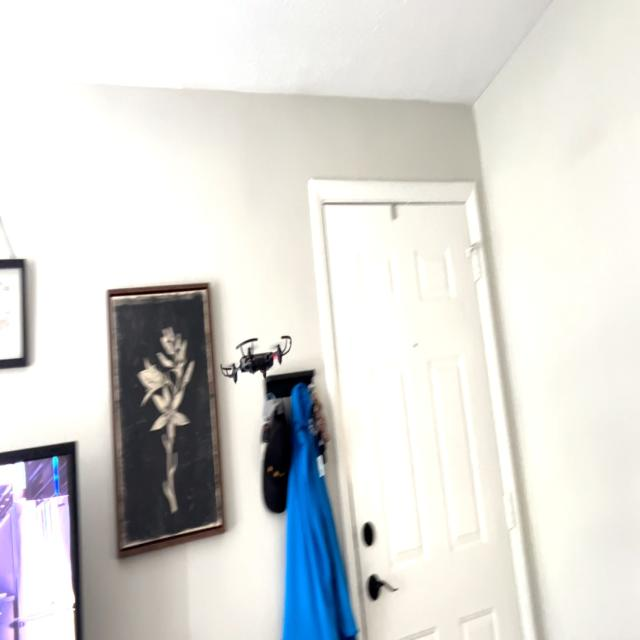drone: (213, 326, 295, 393)
